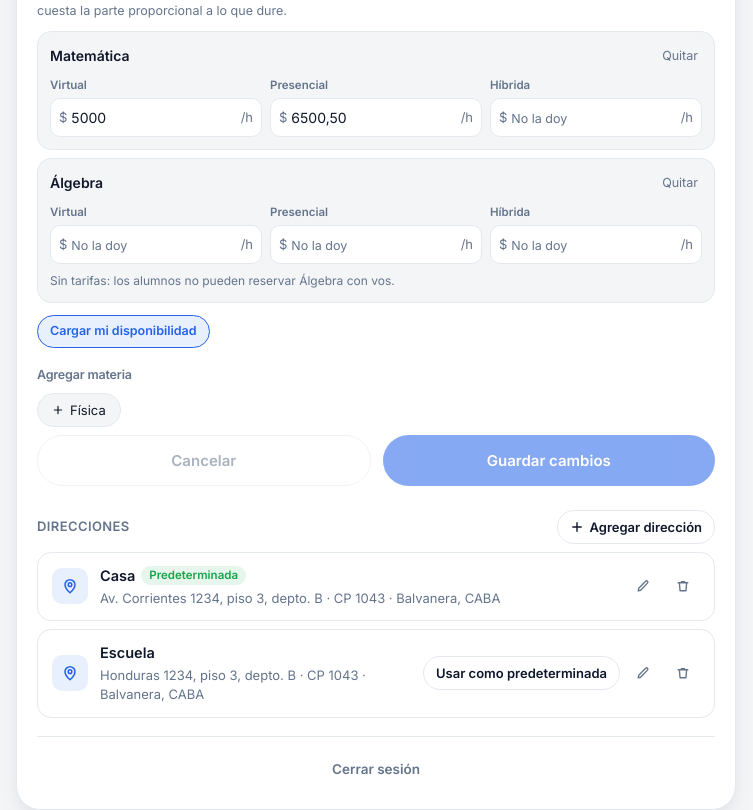
Test: ProfilePage — direcciones del docente › pone otra como predeterminada
The image size is (753, 810).
(page scrolled)
Expected: the text "Escuela" is shown, [100,644,155,661]
Click the button "Usar como predeterminada".
click(522, 673)  # box [423,656,620,690]
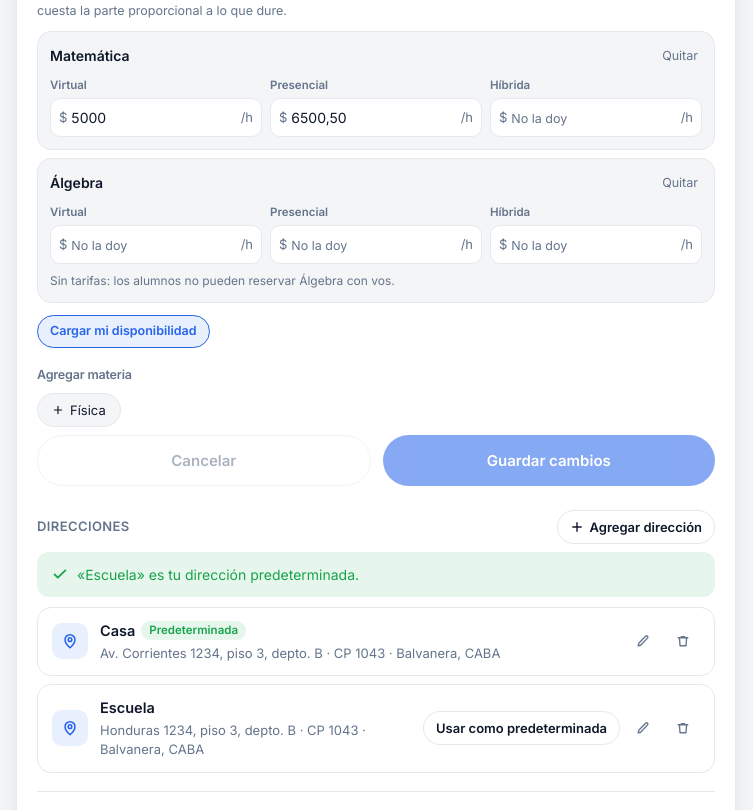
Result: the text "«Escuela» es tu dirección predeterminada." is shown at [77,564,359,585]
